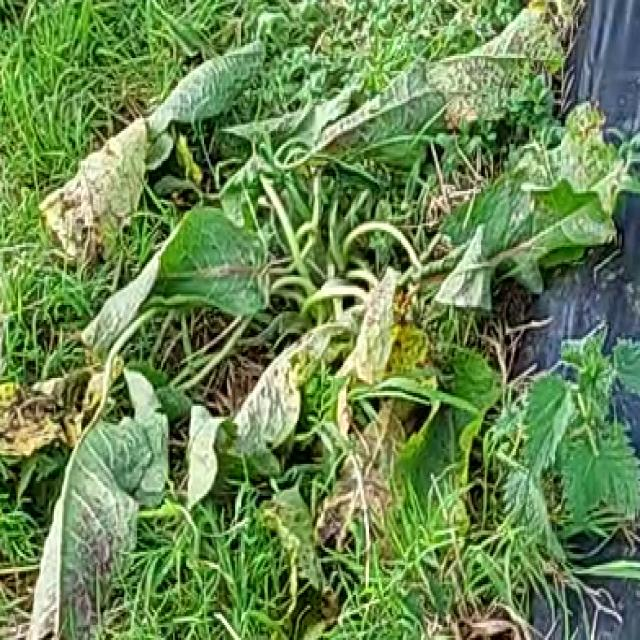organic waste: (28, 47, 627, 599)
